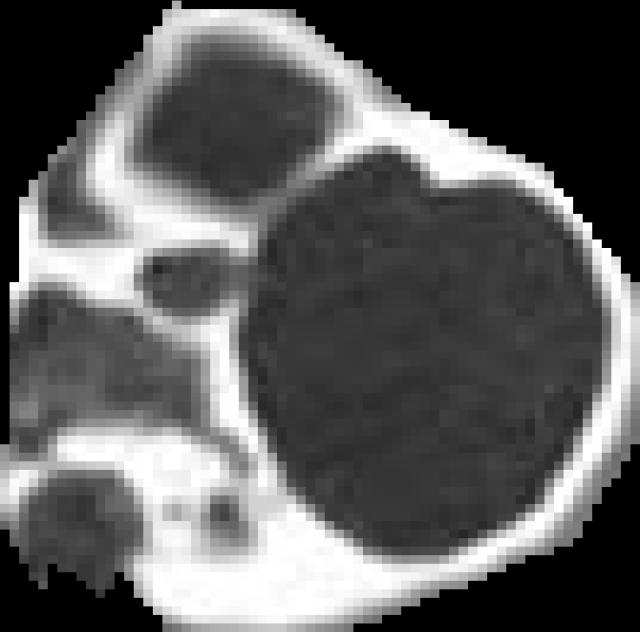tumor_less_chance: (0, 1, 640, 632)
